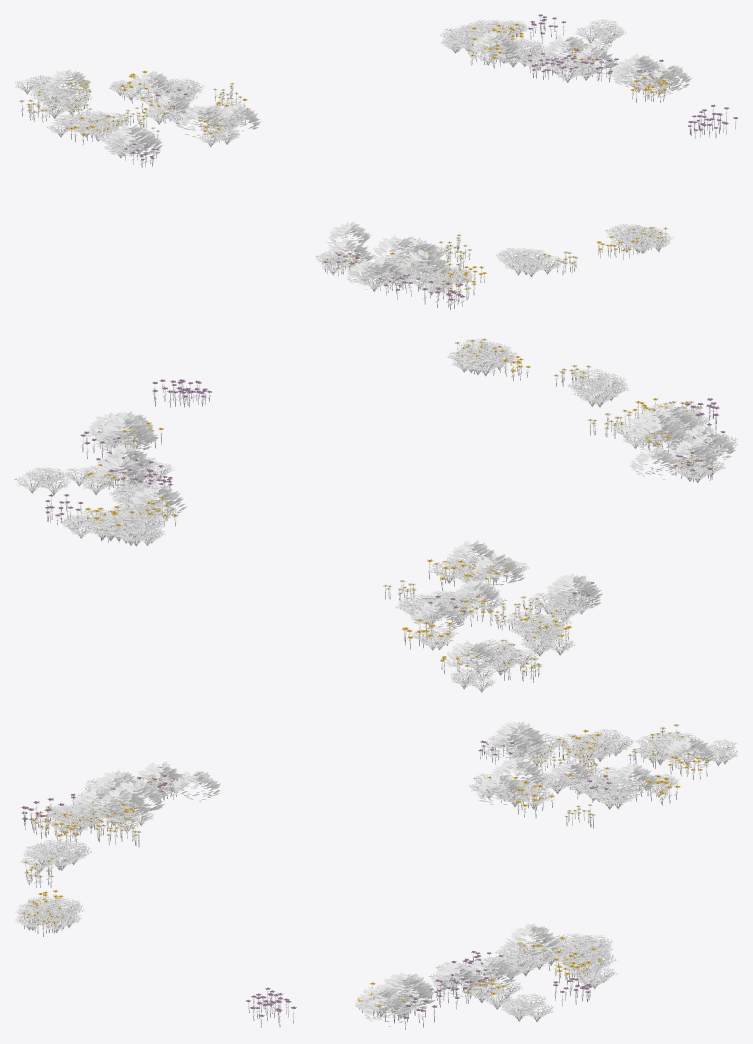
File: SM_DF_Explorer_3_0_Flora.fbx
3 renders of one model, top to bottom at view 1: azimuth 30°, elevation 25°; view 2: azimuth 150°, elevation 25°; view 3: azimuth 270°, elevation 25°, orthographic. The views are drawn at different scales.
Parts seen in each view (by area): view 1: SM_DF_Explorer_3_0_Flora; view 2: SM_DF_Explorer_3_0_Flora; view 3: SM_DF_Explorer_3_0_Flora.
Boxes of the visible parts, box(x1,y1,x2,y2) form: SM_DF_Explorer_3_0_Flora: box(15, 14, 738, 309); SM_DF_Explorer_3_0_Flora: box(14, 338, 737, 692); SM_DF_Explorer_3_0_Flora: box(15, 721, 738, 1029).
Size of the model in its own units: 2429 by 2565 by 194.
